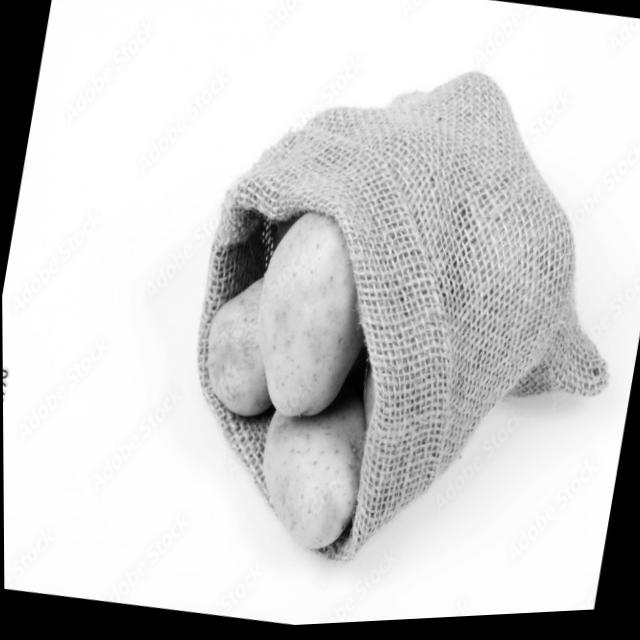sack: (158, 28, 640, 607)
